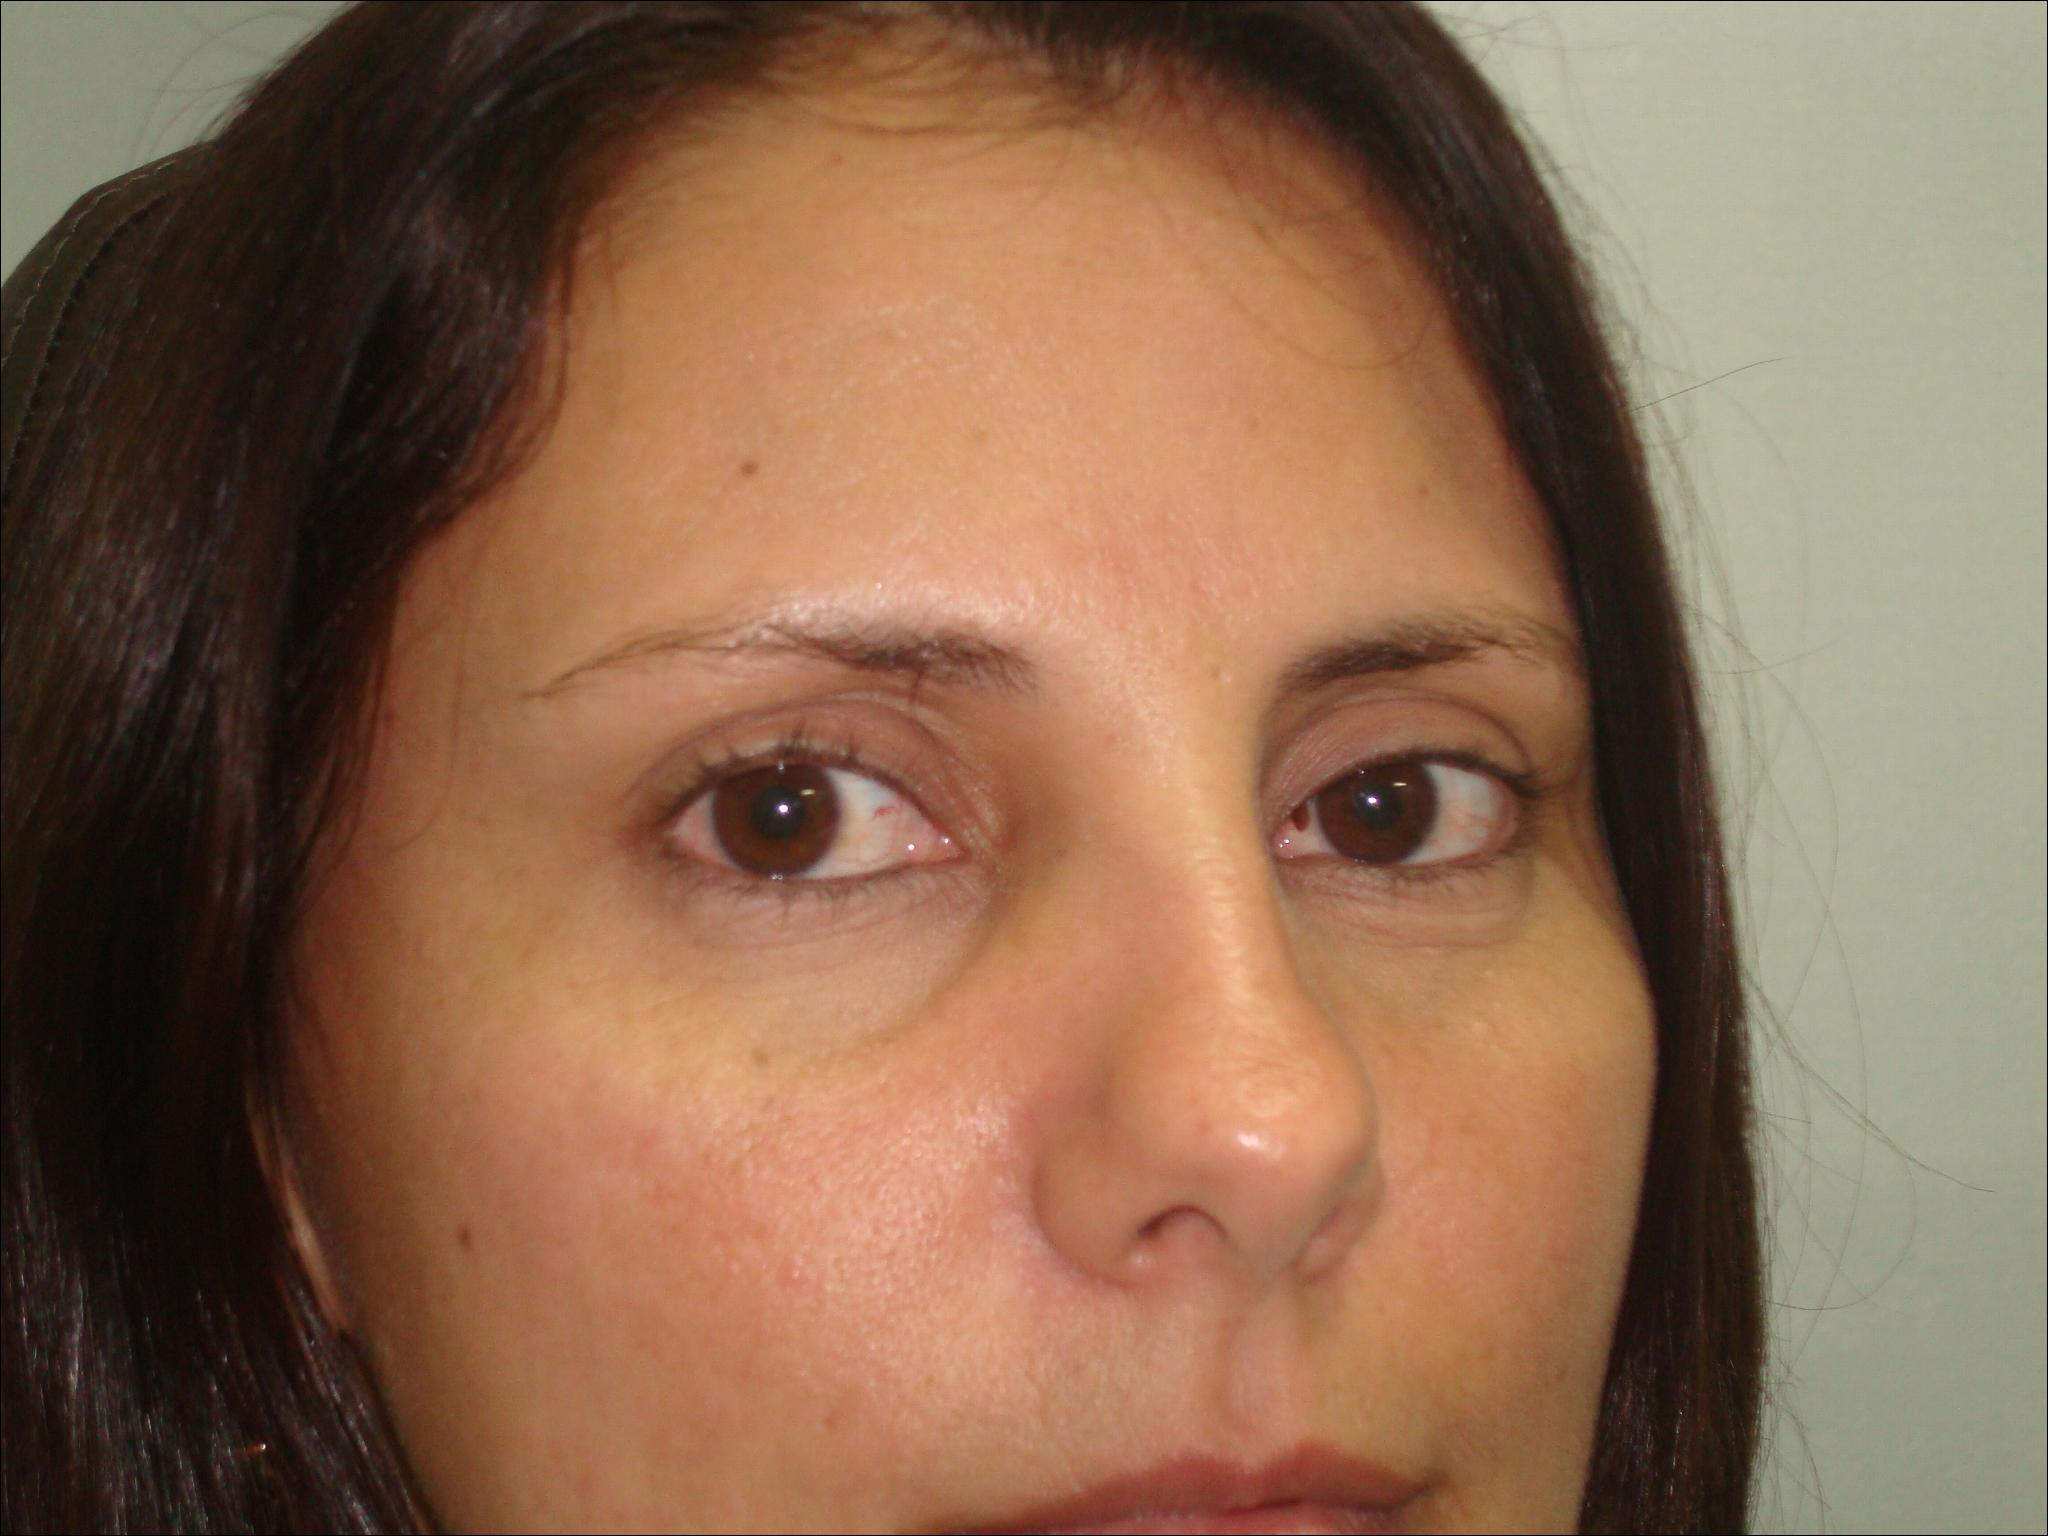flash: (776, 800, 792, 816), (1364, 792, 1380, 808)
limbo: (716, 753, 840, 871), (1317, 752, 1438, 862)
